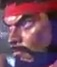ryu: (7, 0, 55, 66)
